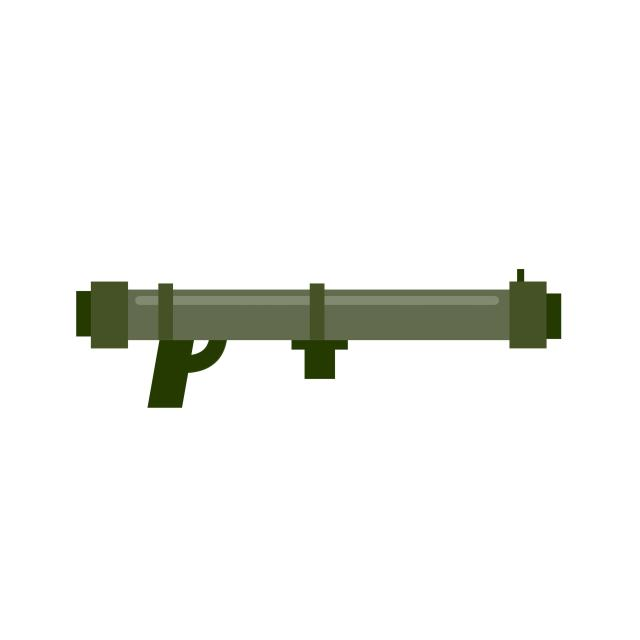weapon: (63, 273, 572, 414)
